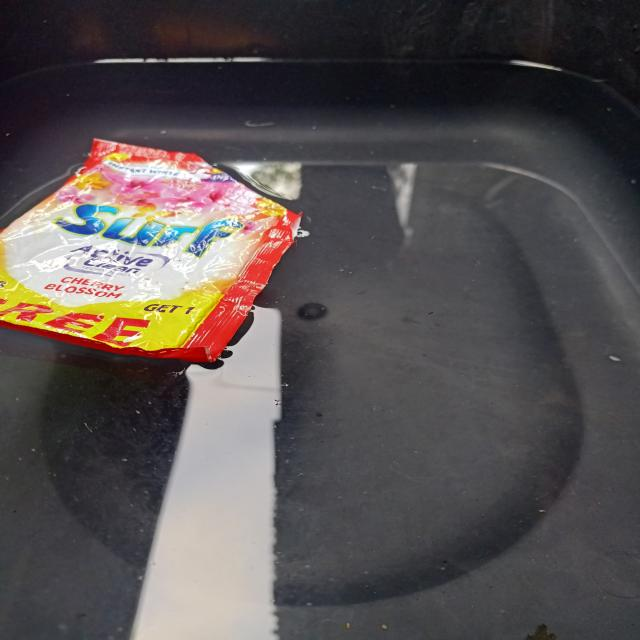Plastic Wrapper: (0, 118, 331, 380)
